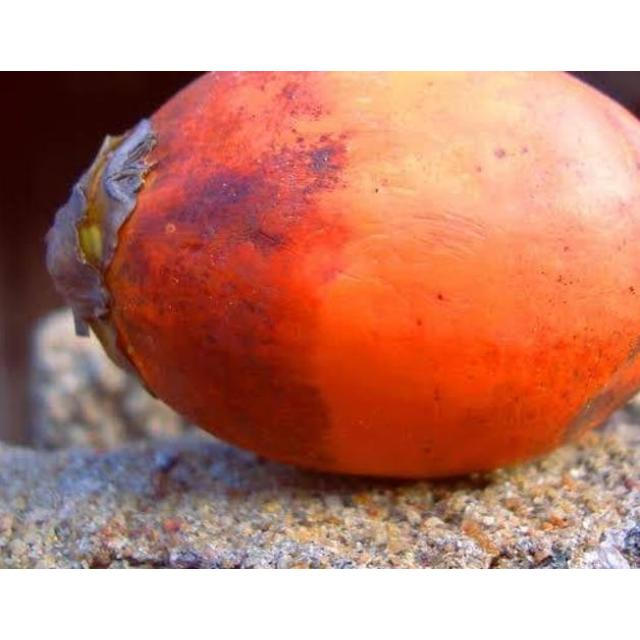good: (47, 71, 639, 483)
